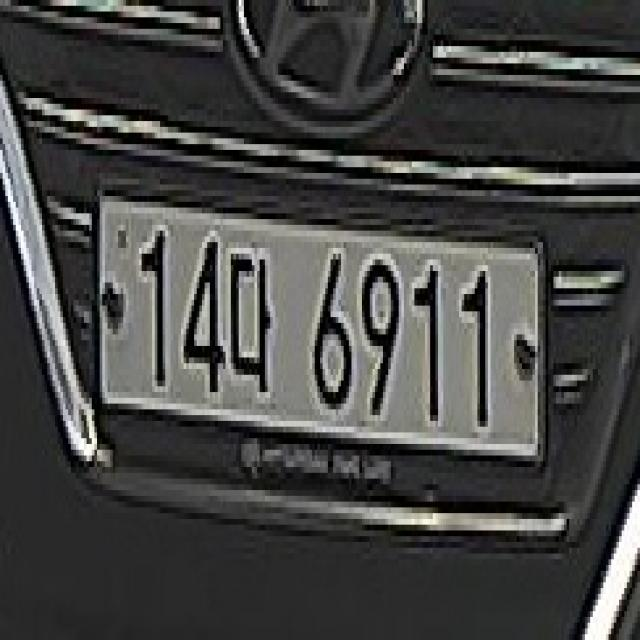1: (454, 237, 511, 456), (404, 237, 456, 456), (129, 208, 173, 415)
4: (178, 219, 231, 409)
6: (307, 248, 357, 432)
9: (357, 248, 409, 438)
da: (228, 219, 278, 421)
license_plate: (89, 179, 551, 496)
